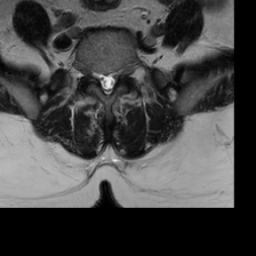CCS_normal: (103, 66, 110, 101)
LFS_normal: (118, 59, 127, 83)
LLS_normal: (110, 62, 118, 90)
RFS_normal: (88, 59, 96, 86)
RLS_normal: (96, 64, 103, 90)
